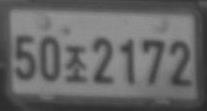0: (40, 35, 61, 81)
1: (117, 38, 141, 85)
2: (169, 41, 192, 87), (92, 37, 114, 84)
5: (14, 35, 36, 80)
7: (142, 38, 166, 84)
조: (64, 44, 89, 83)
